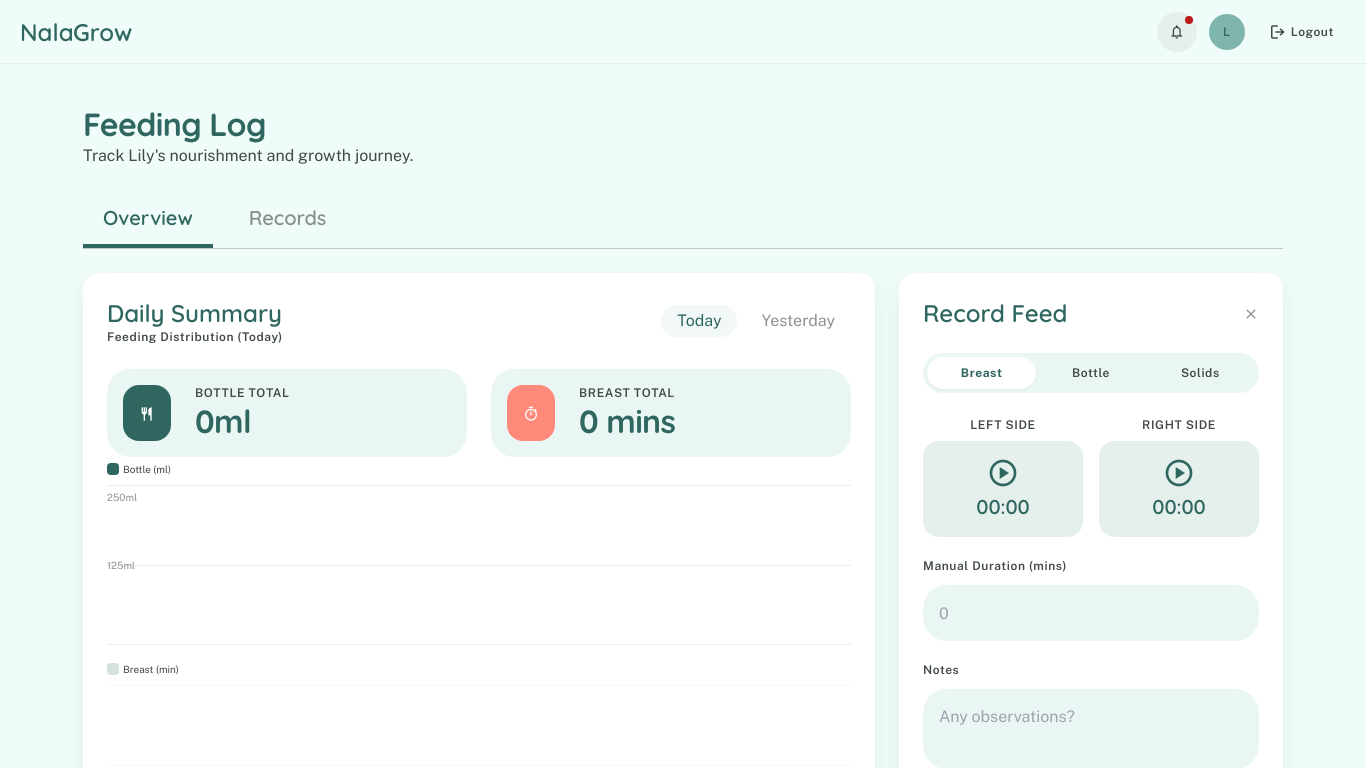
Test: FeedingPage › Save failure › shows a retryable error without adding a local-only session or clearing the form
The image size is (1366, 768).
Type "5" into the number field with placeholder "0" at (1091, 613), box x1=923 y1=585 x2=1259 y2=641
(page scrolled)
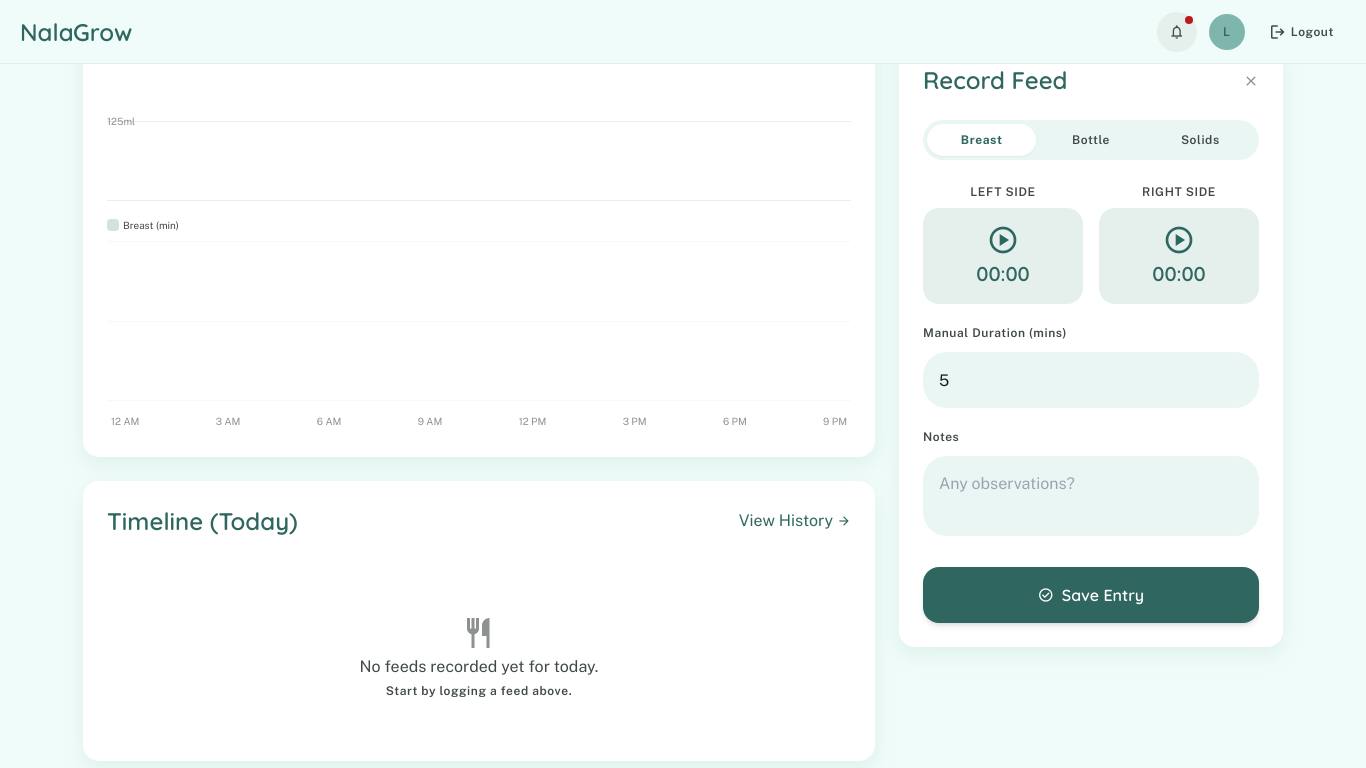
Click the button "Save Entry" at (1091, 595), box x1=923 y1=567 x2=1259 y2=623
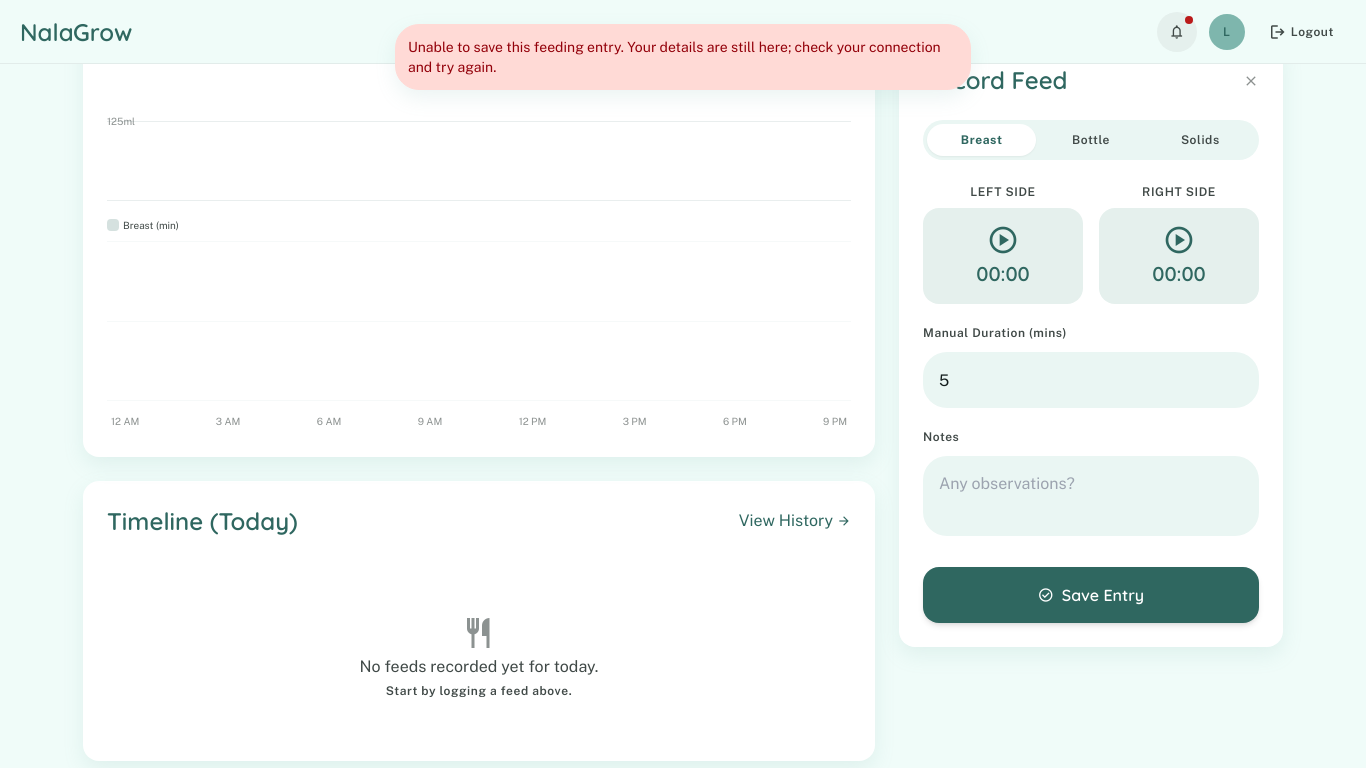
expect the message shows "Unable to save this feeding entry": met, box x1=408 y1=39 x2=941 y2=75
expect the message shows "try again": met, box x1=408 y1=39 x2=941 y2=75
